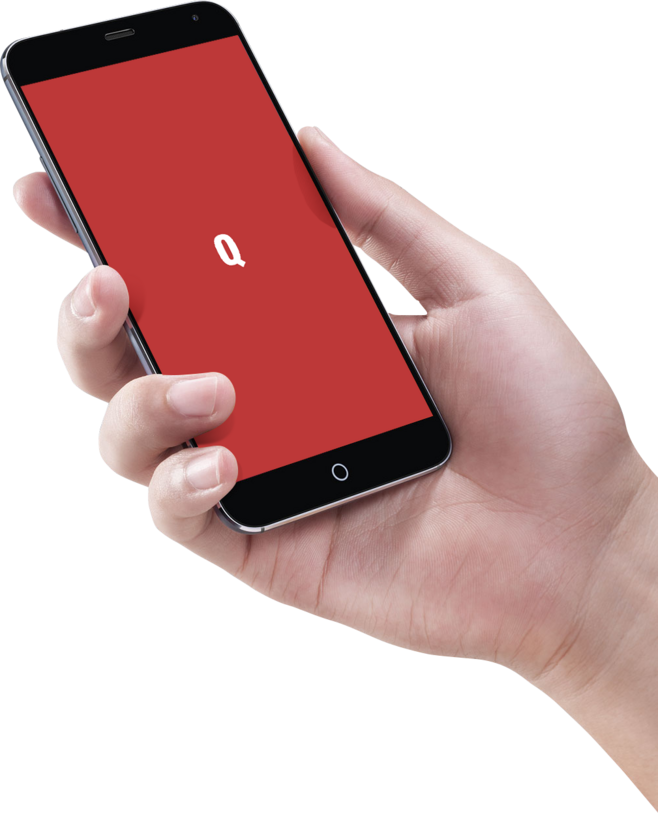phone: (1, 1, 630, 680)
